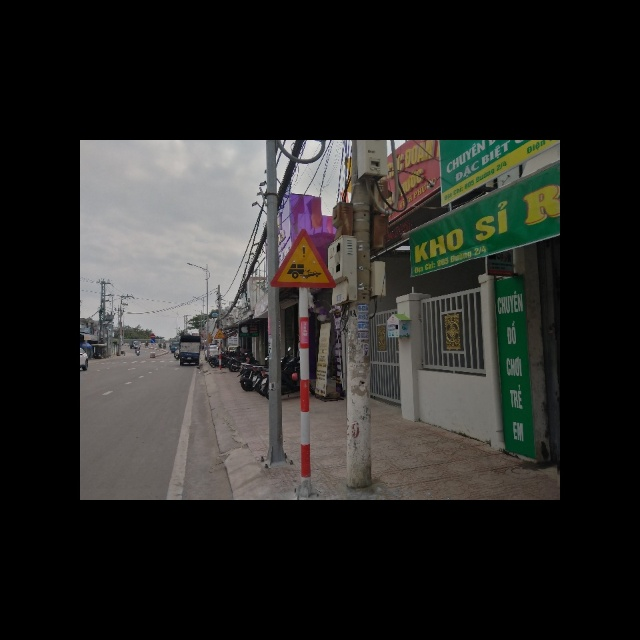Đoạn đường hay xảy ra tai nạn: (270, 229, 335, 287)
Đường đôi: (214, 329, 226, 340)
